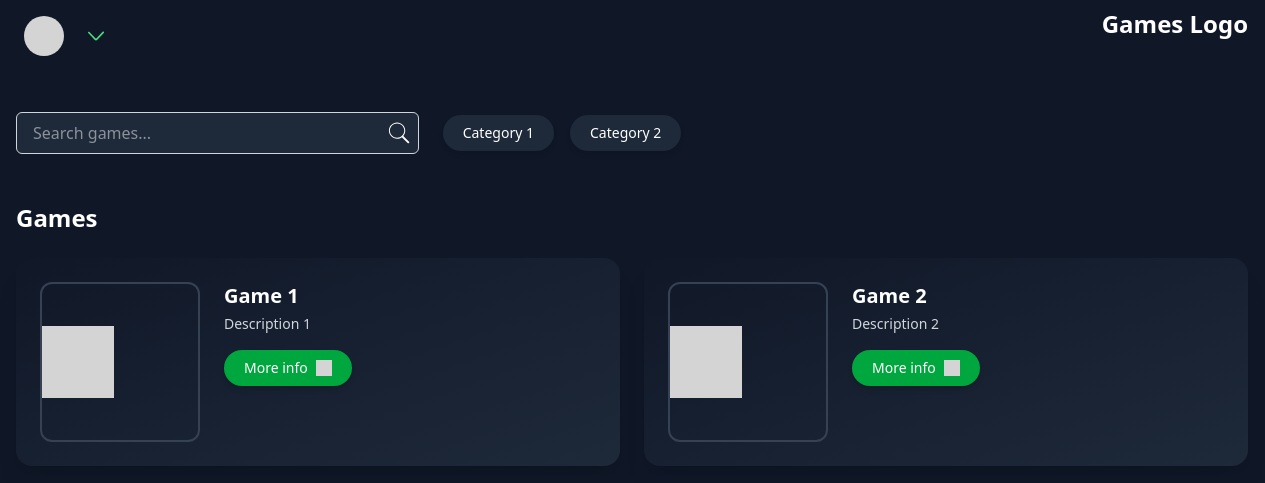
Test: Games Component › should filter games based on search input
Expected: the heading "Game 1" is shown, [224,282,299,309]
Expected: the heading "Game 2" is shown, [852,282,927,309]
In the field: [217, 133] box [16,112,419,154], type "Game 1"
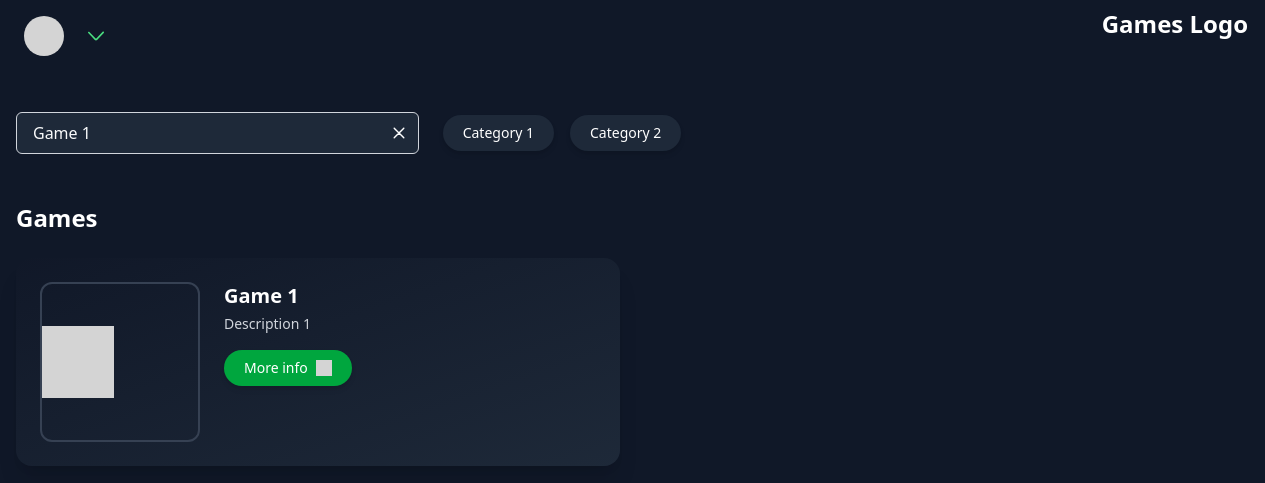
Expected: the heading "Game 1" is shown, [224,282,299,309]
Expected: the heading with test id "game-title-game2" is gone
